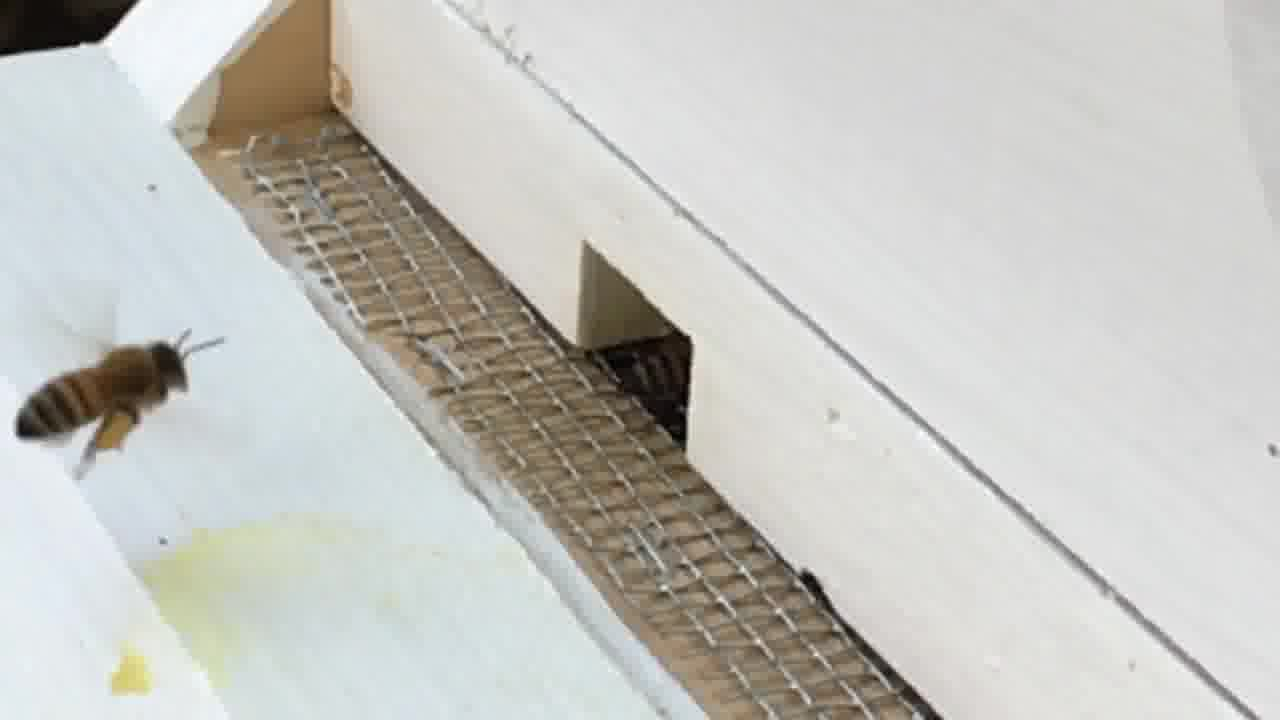pollen: (19, 342, 193, 473)
